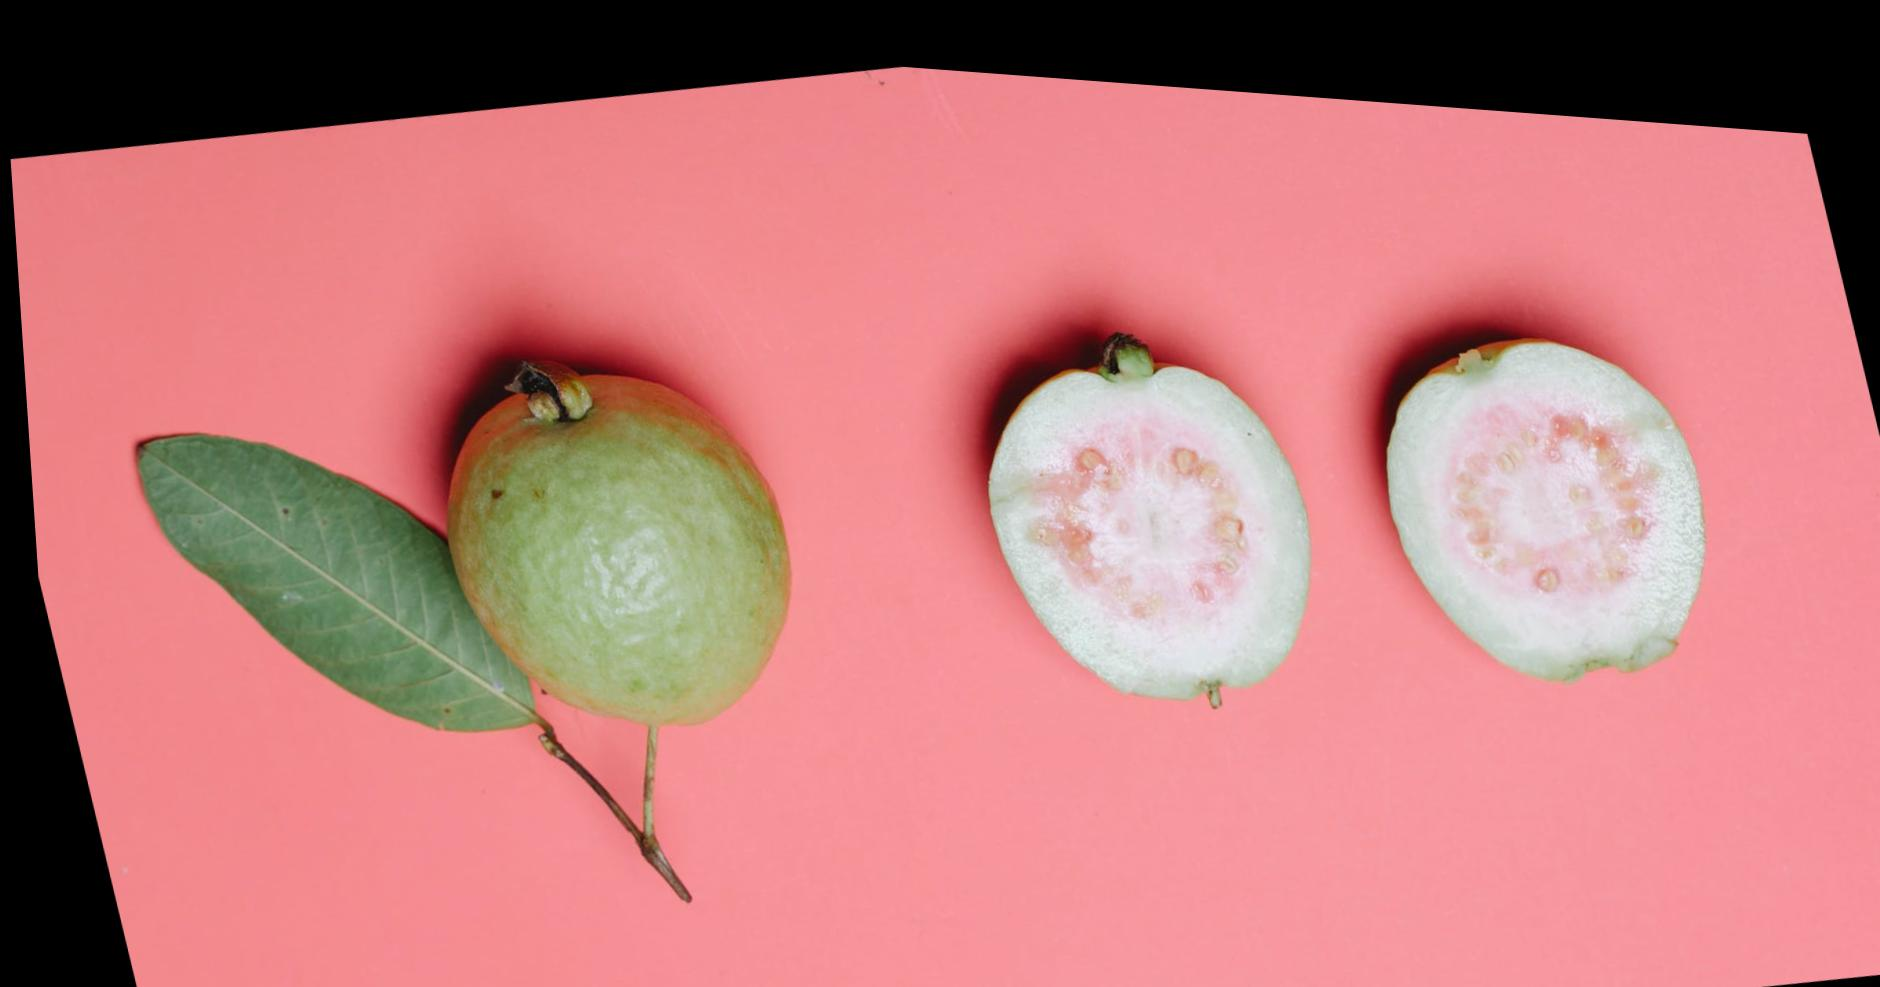organic: (404, 312, 819, 753), (952, 293, 1357, 746), (1362, 295, 1746, 709)
